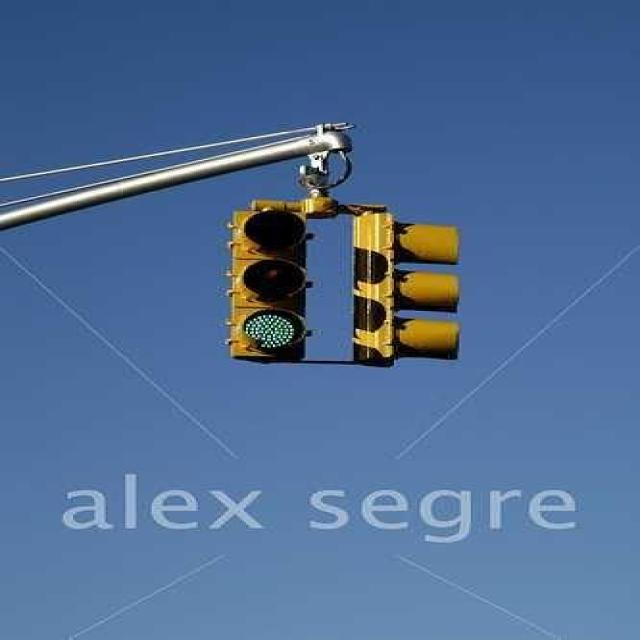Traffic Light -Green-: (236, 198, 312, 361)
